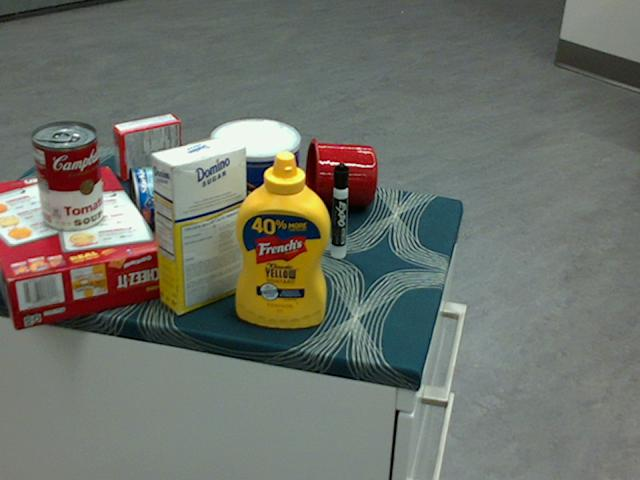cracker_box: (0, 164, 167, 329)
gelatin_box: (113, 113, 180, 180)
large_marker: (332, 163, 349, 258)
master_chef_can: (208, 118, 298, 262)
mug: (303, 137, 376, 209)
mustard_bottle: (235, 150, 331, 328)
potted_meat_can: (182, 128, 263, 216)
sugar_box: (150, 136, 247, 313)
tomato_soup_can: (31, 121, 103, 231)
tuna_fish_can: (126, 166, 164, 238)
